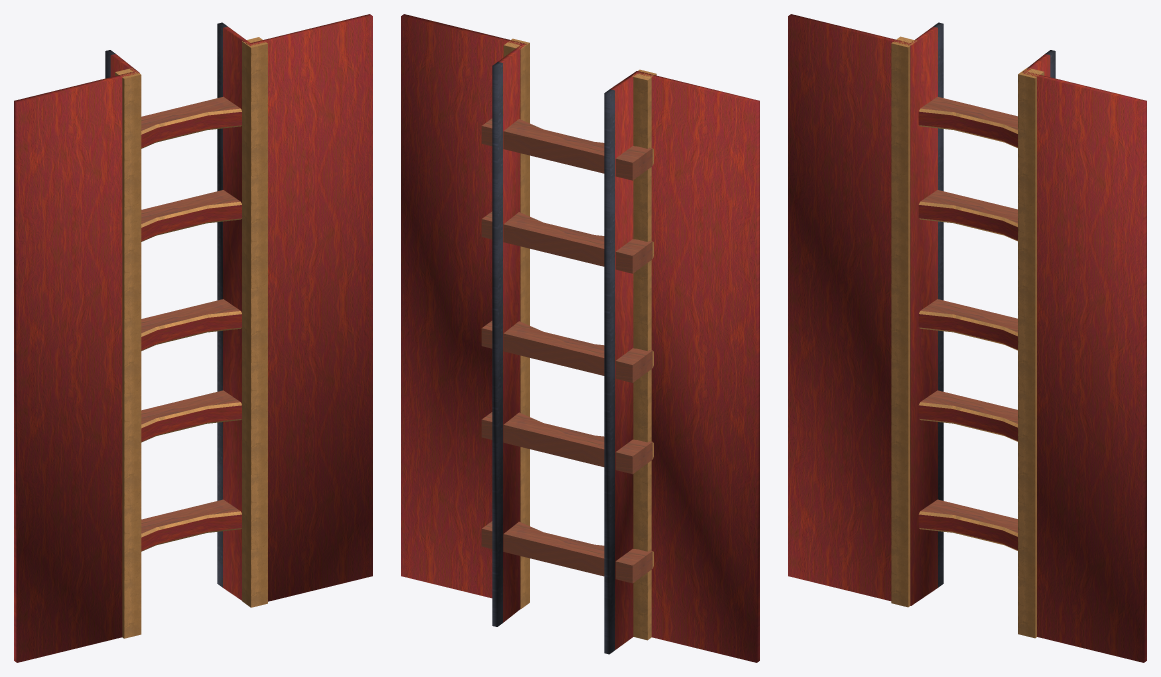
File: RoomRoofBeam_Art.fbx
3 renders of one model, left to right at view 1: azimuth 30°, elevation 25°; view 2: azimuth 150°, elevation 25°; view 3: azimuth 330°, elevation 25°, orthographic.
Parts seen in each view (by area): view 1: RoomRoofBeam_Art; view 2: RoomRoofBeam_Art; view 3: RoomRoofBeam_Art.
Part boxes in pixels (left/top/right/bottom): RoomRoofBeam_Art: left=14, top=14, right=372, bottom=662; RoomRoofBeam_Art: left=401, top=14, right=759, bottom=662; RoomRoofBeam_Art: left=788, top=14, right=1146, bottom=662.
Bounding box in the file's own units: 10.75 × 16.17 × 1.74.
